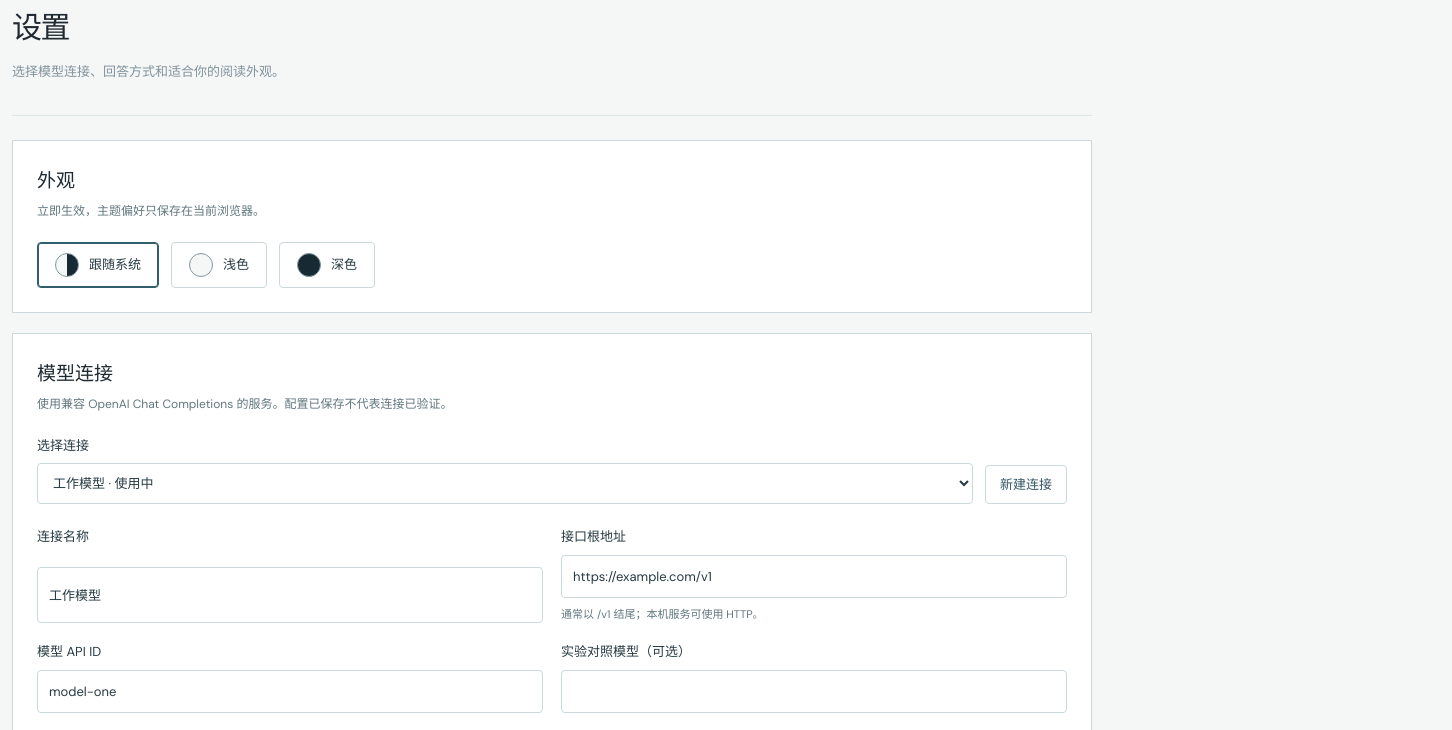
requires replacement or explicit clear for endpoint change and clears draft on selection
Type "https://other.example/v1" into the field labelled "接口根地址".
click(814, 577); type("https://other.example/v1")  # box [561,555,1067,598]
(page scrolled)
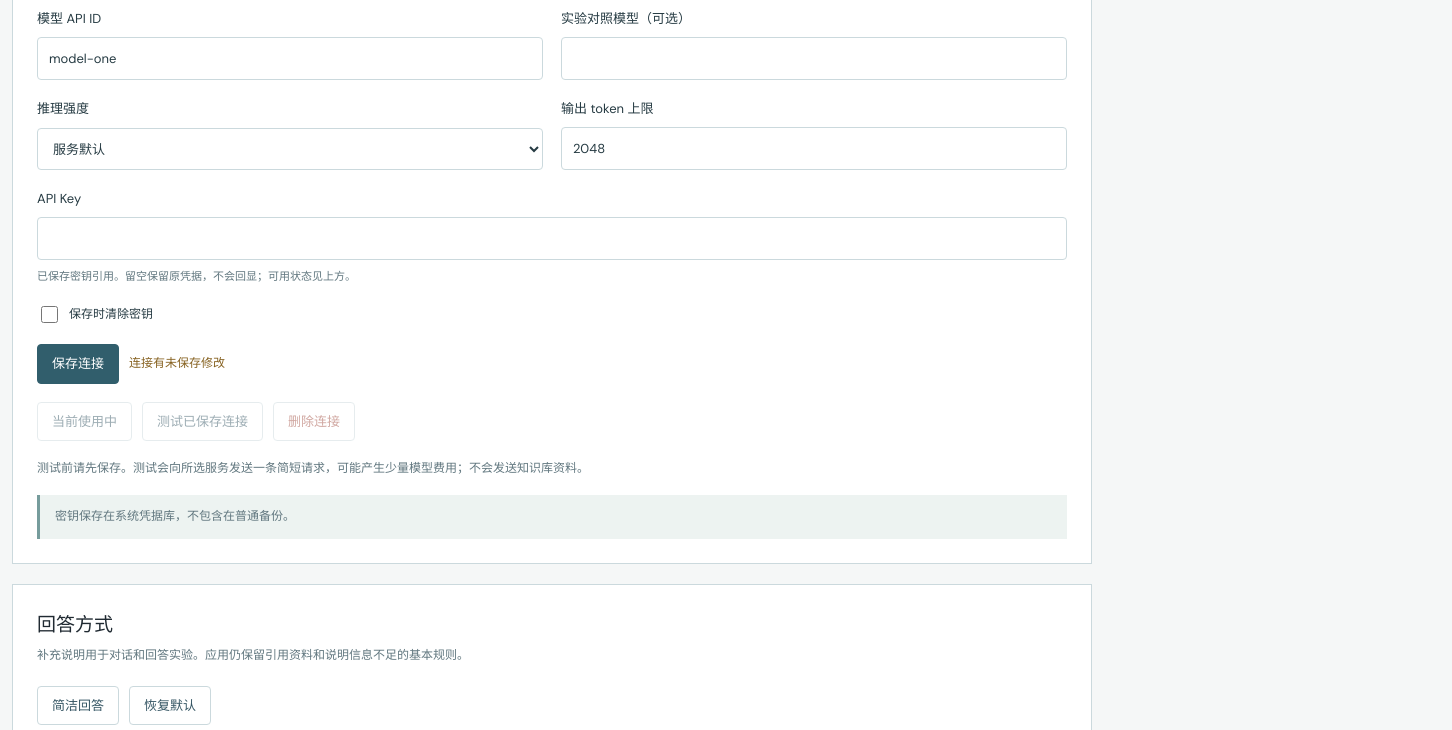
Click the button "保存连接".
click(78, 364)  # box [37,344,119,384]
(page scrolled)
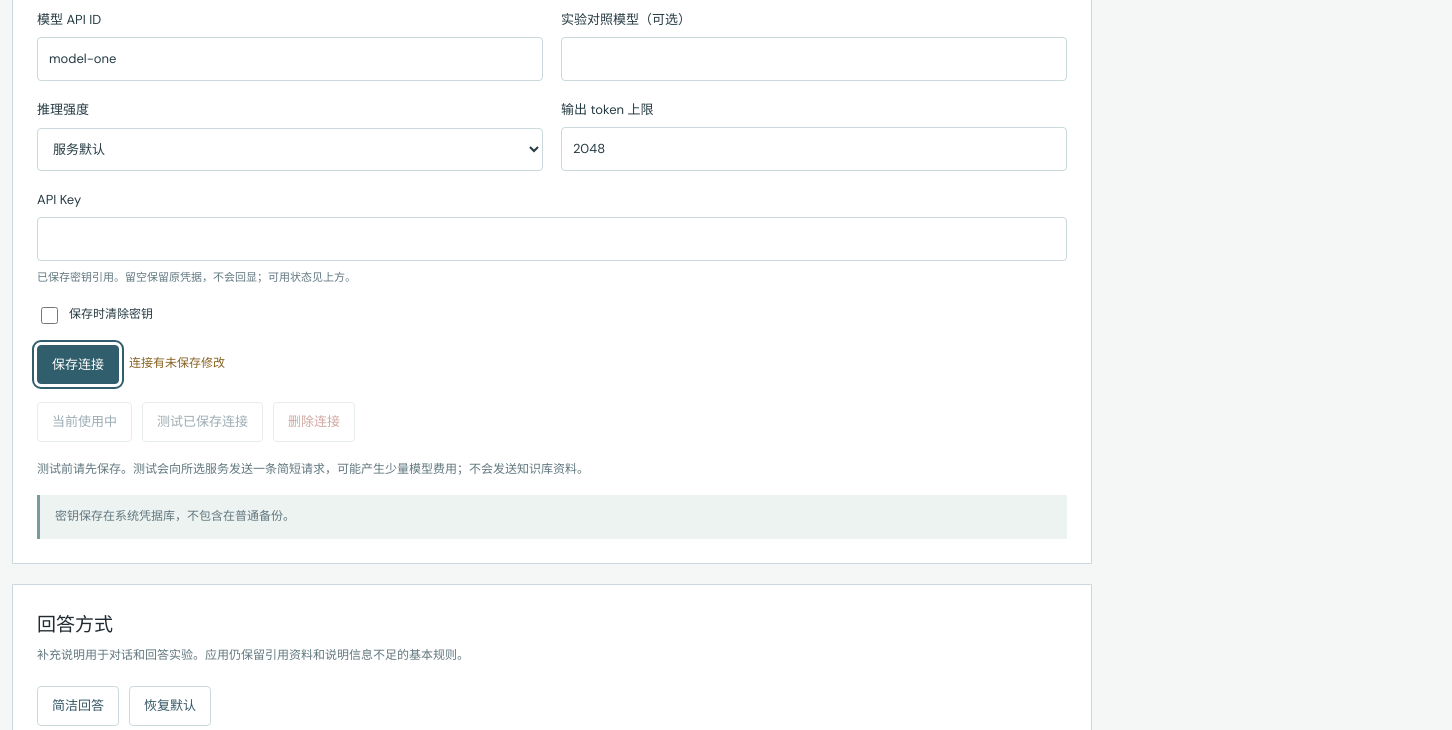
Type "draft-secret" into the password field labelled "API Key".
click(552, 239); type("draft-secret")  # box [37,217,1067,260]
(page scrolled)
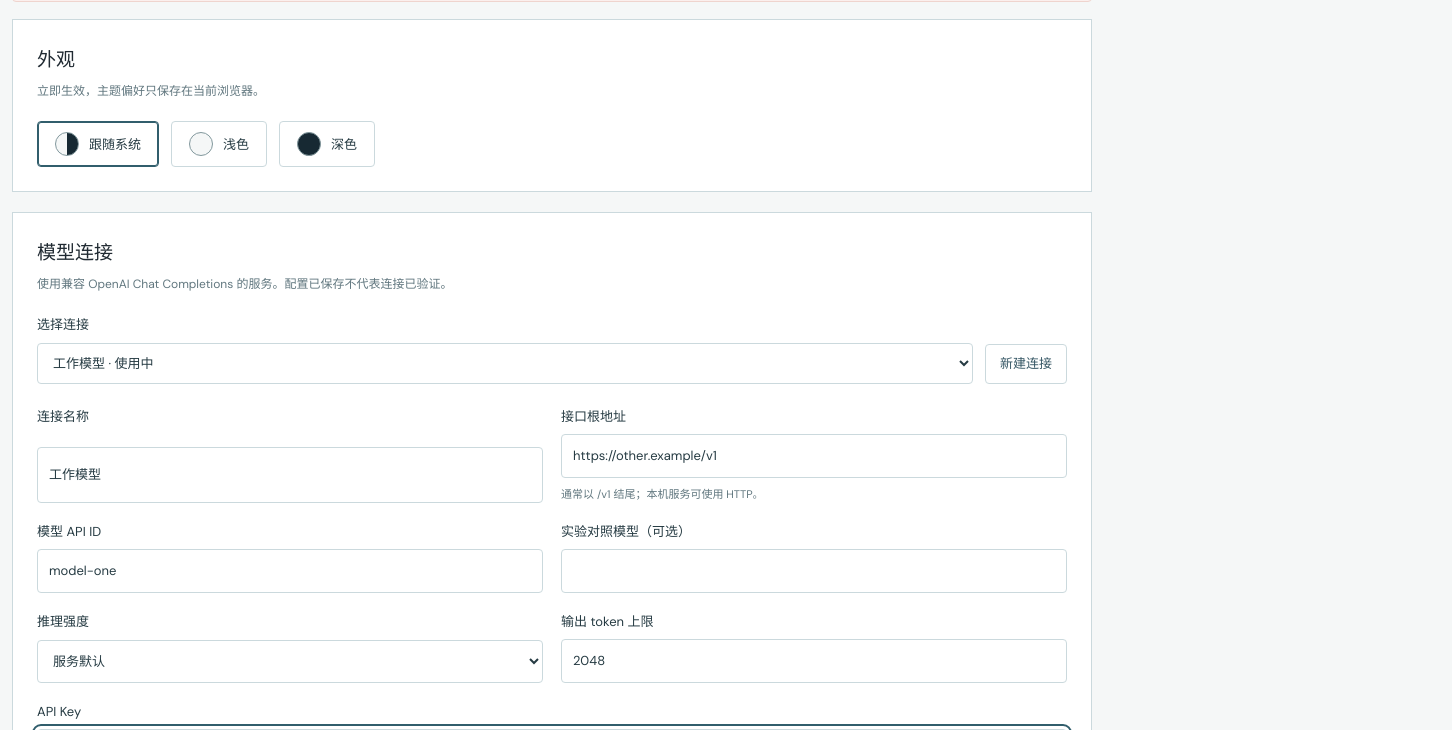
Select "环境配置" in the dropdown labelled "选择连接" at (505, 363), box [37,343,973,384]
(page scrolled)
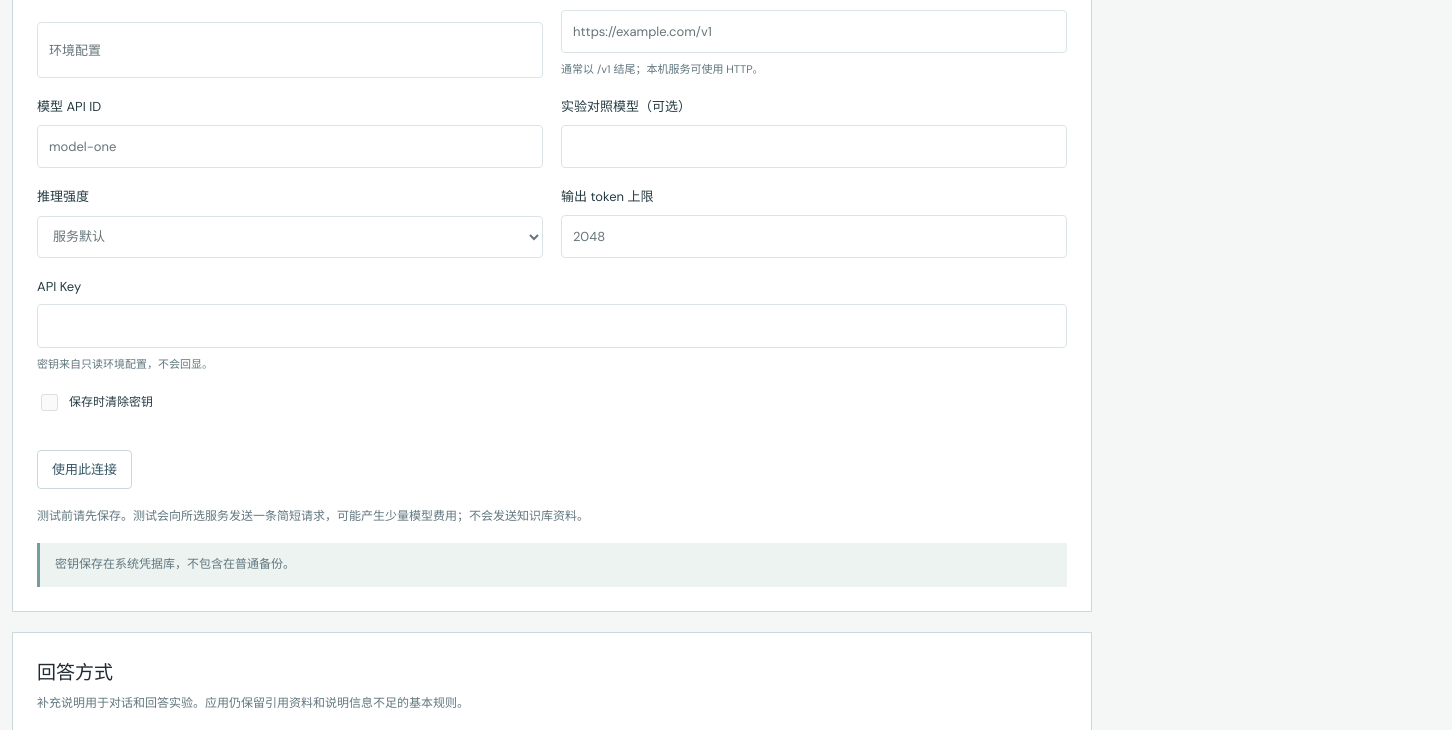
Expected: the field labelled "连接名称" is disabled, [37,22,543,78]
Result: the text "密钥来自只读环境配置，不会回显。" is shown at [37,357,213,371]
